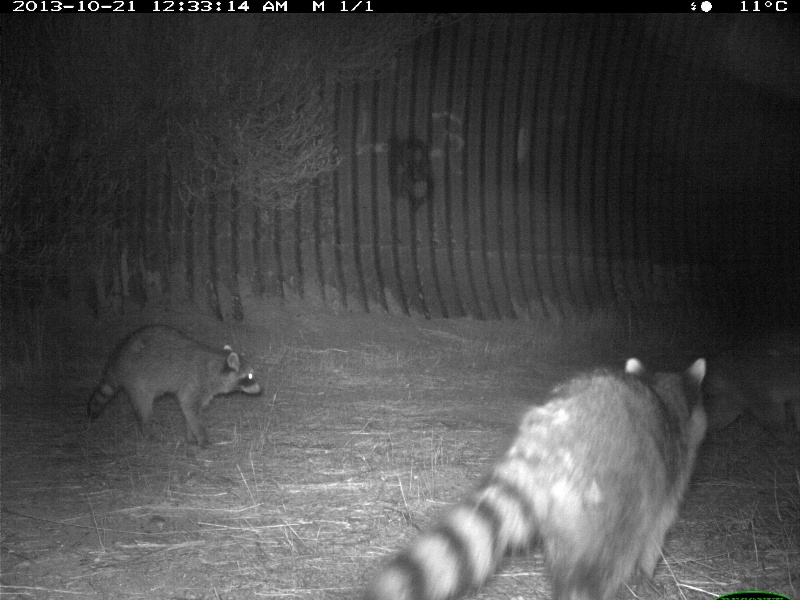raccoon: (362, 356, 710, 599), (87, 323, 266, 450)
